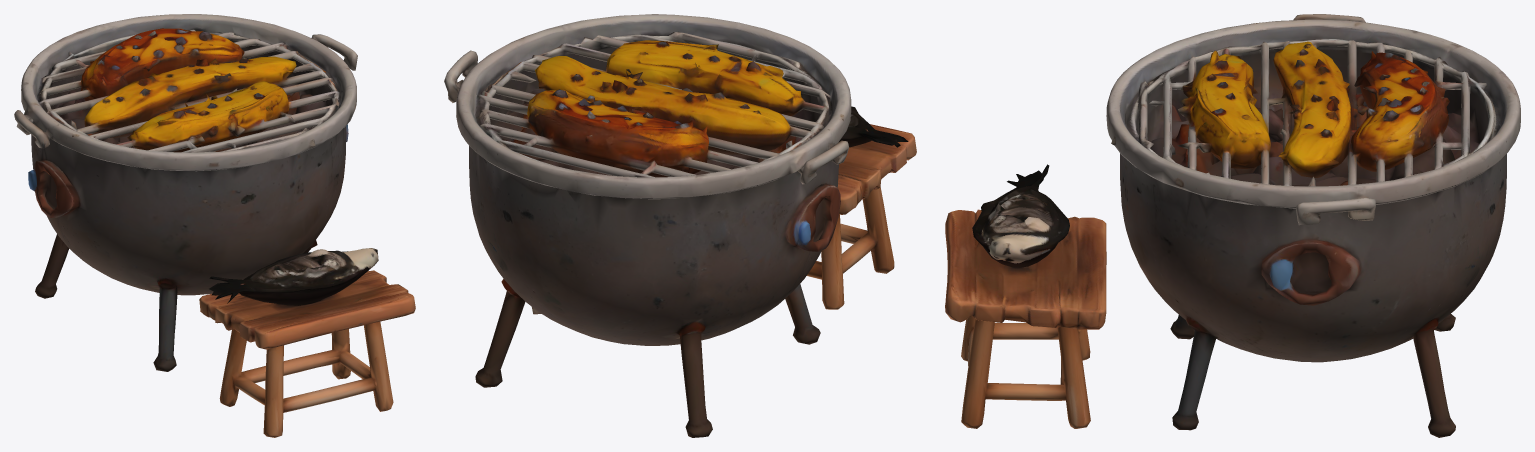
The model's file is bole.glb.
3 views of the same model, side by side, from view 1: azimuth 30°, elevation 25°; view 2: azimuth 150°, elevation 25°; view 3: azimuth 270°, elevation 25° (orthographic). The views are drawn at different scales.
Visible parts, largest first — view 1: tripo_node_a280c920-9315-43e8-a4ab-48a62e37d32e; view 2: tripo_node_a280c920-9315-43e8-a4ab-48a62e37d32e; view 3: tripo_node_a280c920-9315-43e8-a4ab-48a62e37d32e.
Boxes of the visible parts, x1=… form: tripo_node_a280c920-9315-43e8-a4ab-48a62e37d32e: x1=14, y1=14, x2=415, y2=437; tripo_node_a280c920-9315-43e8-a4ab-48a62e37d32e: x1=444, y1=14, x2=916, y2=437; tripo_node_a280c920-9315-43e8-a4ab-48a62e37d32e: x1=945, y1=14, x2=1520, y2=437.
Bounding box in the file's own units: 1.27 × 0.9581 × 1.6.
Materials: 1 (1 with a texture image).
